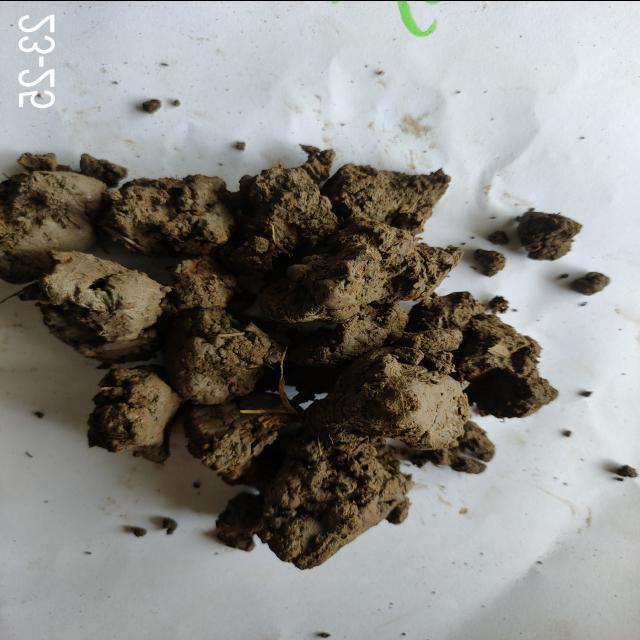soil: (84, 225, 436, 406)
